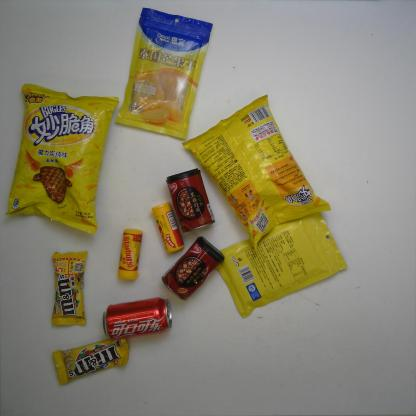Candy: (149, 200, 186, 256), (116, 227, 144, 283)
Canned Food: (160, 234, 226, 302), (165, 166, 217, 235)
Chocolate: (51, 335, 131, 387), (48, 248, 88, 328)
Dried Fruit: (215, 212, 350, 320), (114, 6, 214, 142)
Drink: (102, 296, 174, 342)
Puffed Food: (182, 94, 333, 256), (3, 82, 120, 237)
